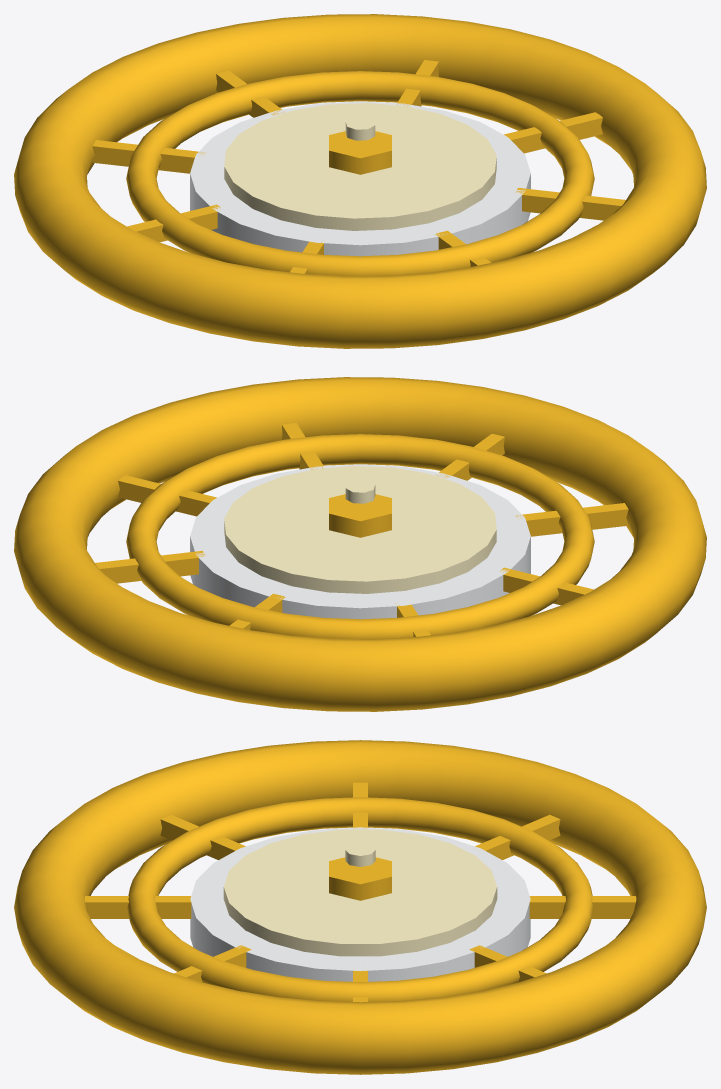
File: toy_olympus_golden_ring.glb
3 views of the same model, one above another, from view 1: azimuth 30°, elevation 25°; view 2: azimuth 150°, elevation 25°; view 3: azimuth 270°, elevation 25° (orthographic).
Visible parts, largest first — view 1: solid_3, solid_4, solid_2, solid_1, solid_25, solid_10, solid_6, solid_5, solid_9, solid_11, solid_12, solid_26; view 2: solid_3, solid_4, solid_2, solid_1, solid_25, solid_8, solid_12, solid_5, solid_9, solid_7, solid_6, solid_26; view 3: solid_3, solid_4, solid_2, solid_1, solid_25, solid_7, solid_11, solid_8, solid_10, solid_6, solid_12, solid_26.
Boxes of the visible parts, x1,y1,x2,y2 form: solid_3: [14, 14, 706, 348]; solid_4: [126, 71, 594, 275]; solid_2: [224, 103, 496, 230]; solid_1: [190, 101, 530, 256]; solid_25: [329, 131, 391, 174]; solid_10: [92, 140, 205, 173]; solid_6: [515, 187, 625, 220]; solid_5: [504, 112, 602, 153]; solid_9: [127, 204, 220, 242]; solid_11: [216, 71, 284, 117]; solid_12: [396, 60, 438, 106]; solid_26: [345, 117, 375, 140]; solid_3: [14, 377, 706, 711]; solid_4: [126, 434, 594, 638]; solid_2: [224, 466, 496, 593]; solid_1: [190, 464, 530, 619]; solid_25: [329, 494, 391, 537]; solid_8: [515, 503, 628, 536]; solid_12: [95, 550, 205, 583]; solid_5: [118, 475, 216, 516]; solid_9: [499, 567, 593, 605]; solid_7: [435, 434, 504, 480]; solid_6: [282, 423, 323, 469]; solid_26: [345, 480, 375, 503]; solid_3: [14, 740, 706, 1074]; solid_4: [127, 797, 593, 1001]; solid_2: [223, 829, 497, 956]; solid_1: [190, 827, 530, 981]; solid_25: [329, 857, 391, 900]; solid_7: [84, 896, 191, 918]; solid_11: [529, 896, 636, 918]; solid_8: [160, 814, 245, 859]; solid_10: [475, 814, 560, 859]; solid_6: [174, 945, 251, 982]; solid_12: [469, 945, 546, 982]; solid_26: [345, 843, 375, 866].
Size of the model in its own units: 4.56 by 0.66 by 4.56.
